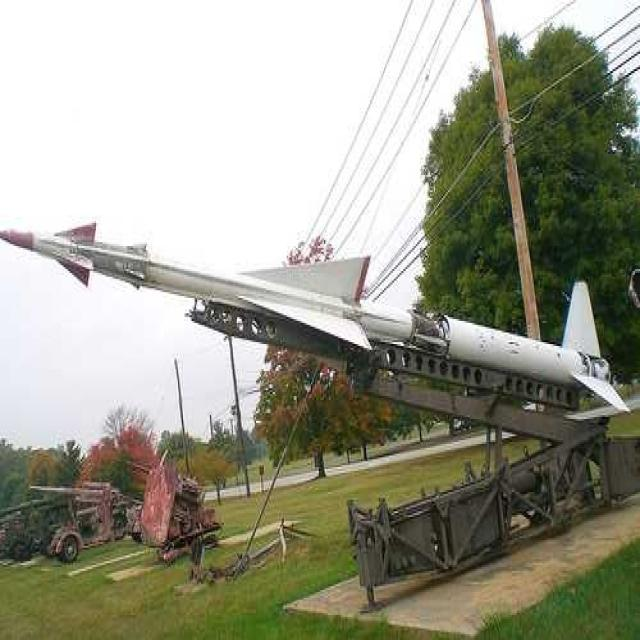missile: (0, 216, 629, 414)
